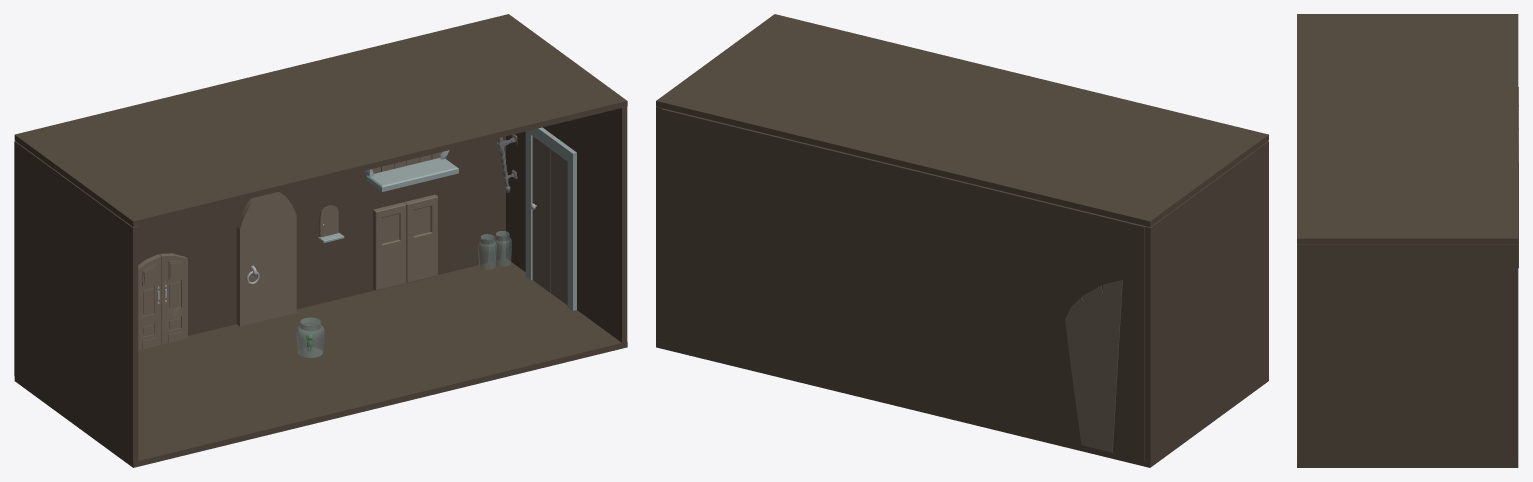
File: level1.fbx
3 renders of one model, left to right at view 1: azimuth 30°, elevation 25°; view 2: azimuth 150°, elevation 25°; view 3: azimuth 270°, elevation 25°, orthographic. The views are drawn at different scales.
Parts seen in each view (by area): view 1: pCube5, pCube4, pCube2, pCube1, door (×3), pCube3, sun_door1, oute, platform, pCylinder1; view 2: pCube1, pCube5, pCube2, door, pCube4, pCube3; view 3: pCube5, pCube3, pCube4.
Boxes of the visible parts, x1,y1,x2,y2 form: pCube5: (14,14,627,226); pCube4: (14,258,627,467); pCube2: (14,141,138,462); pCube1: (138,136,505,335); door (×3): (138,136,567,349); pCube3: (506,107,627,342); sun_door1: (373,194,437,290); oute: (525,127,576,310); platform: (366,158,458,191); pCylinder1: (296,317,324,357); pCube1: (661,108,1145,461); pCube5: (656,14,1268,226); pCube2: (1145,141,1268,462); door: (1065,280,1122,452); pCube4: (656,341,1268,467); pCube3: (656,107,662,342); pCube5: (1297,14,1518,243); pCube3: (1297,244,1517,463); pCube4: (1297,244,1518,467).
Size of the model in its own units: 89.86 by 42.81 by 37.51.
